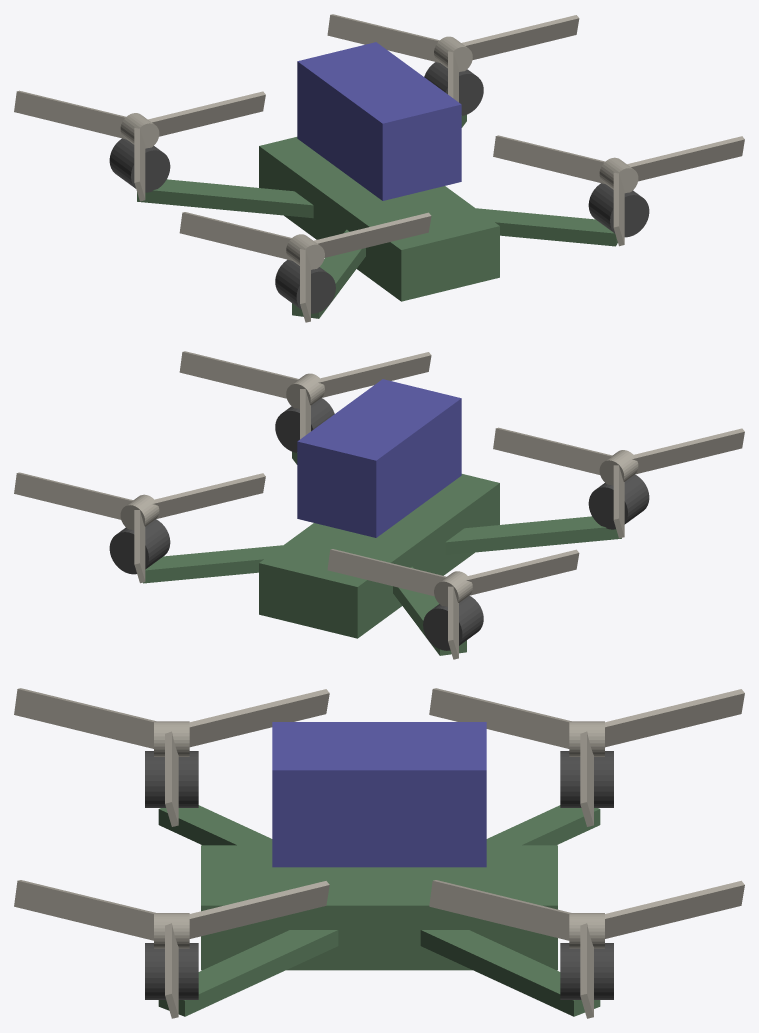
The model's file is Fox Racing V1.glb.
3 renders of one model, top to bottom at view 1: azimuth 30°, elevation 25°; view 2: azimuth 150°, elevation 25°; view 3: azimuth 270°, elevation 25°, orthographic. The views are drawn at different scales.
Parts seen in each view (by area): view 1: battery, frame_body, prop_0, prop_3, prop_2, prop_1, arm_3, arm_0, motor_0, motor_3, motor_2, motor_1 (+1 smaller); view 2: battery, frame_body, prop_2, prop_1, prop_3, prop_0, arm_2, arm_1, motor_1, motor_2, motor_3, motor_0 (+1 smaller); view 3: battery, frame_body, prop_0, prop_1, prop_2, prop_3, arm_1, arm_0, arm_2, arm_3, motor_0, motor_1 (+2 smaller).
Boxes of the visible parts, left/top/right/bottom form: battery: left=297, top=42, right=461, bottom=200; frame_body: left=259, top=137, right=499, bottom=301; prop_0: left=493, top=135, right=744, bottom=246; prop_3: left=14, top=90, right=265, bottom=201; prop_2: left=179, top=212, right=431, bottom=322; prop_1: left=327, top=14, right=579, bottom=102; arm_3: left=137, top=179, right=313, bottom=218; arm_0: left=476, top=208, right=617, bottom=246; motor_0: left=588, top=183, right=649, bottom=237; motor_3: left=109, top=138, right=170, bottom=192; motor_2: left=275, top=259, right=335, bottom=313; motor_1: left=424, top=62, right=483, bottom=115; battery: left=297, top=379, right=461, bottom=537; frame_body: left=259, top=474, right=499, bottom=638; prop_2: left=493, top=427, right=744, bottom=538; prop_1: left=14, top=472, right=265, bottom=583; prop_3: left=327, top=549, right=579, bottom=659; prop_0: left=179, top=351, right=431, bottom=439; arm_2: left=445, top=516, right=621, bottom=555; arm_1: left=143, top=545, right=282, bottom=583; motor_1: left=109, top=519, right=170, bottom=574; motor_2: left=588, top=474, right=649, bottom=529; motor_3: left=423, top=595, right=483, bottom=650; motor_0: left=275, top=398, right=334, bottom=452; battery: left=272, top=722, right=486, bottom=867; frame_body: left=201, top=845, right=557, bottom=970; prop_0: left=14, top=880, right=329, bottom=1018; prop_1: left=429, top=880, right=744, bottom=1018; prop_2: left=14, top=688, right=329, bottom=826; prop_3: left=429, top=688, right=744, bottom=826; arm_1: left=420, top=930, right=600, bottom=1016; arm_0: left=158, top=930, right=338, bottom=1016; arm_2: left=158, top=805, right=272, bottom=845; arm_3: left=486, top=805, right=600, bottom=845; motor_0: left=145, top=943, right=198, bottom=999; motor_1: left=560, top=943, right=613, bottom=999.
Bounding box in the file's own units: 0.2039 × 0.06 × 0.2049.
